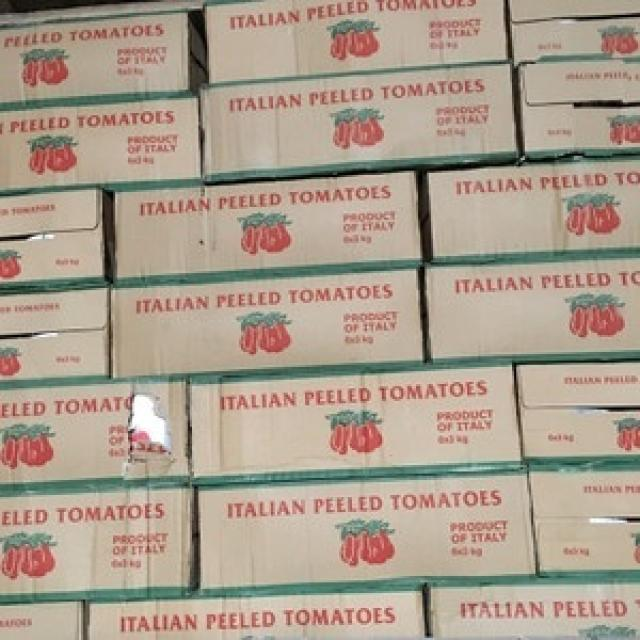box: (192, 474, 535, 596), (189, 364, 523, 488), (200, 64, 519, 184), (109, 172, 425, 287), (109, 271, 424, 381), (204, 0, 509, 85), (416, 154, 638, 266), (423, 258, 638, 365), (0, 488, 197, 604), (0, 380, 190, 491), (0, 94, 206, 194), (0, 12, 207, 109), (87, 587, 428, 638), (513, 361, 638, 465), (511, 62, 638, 162), (425, 578, 638, 637), (525, 465, 638, 576), (0, 190, 114, 290), (0, 287, 112, 386), (508, 0, 638, 63), (0, 602, 87, 638)
